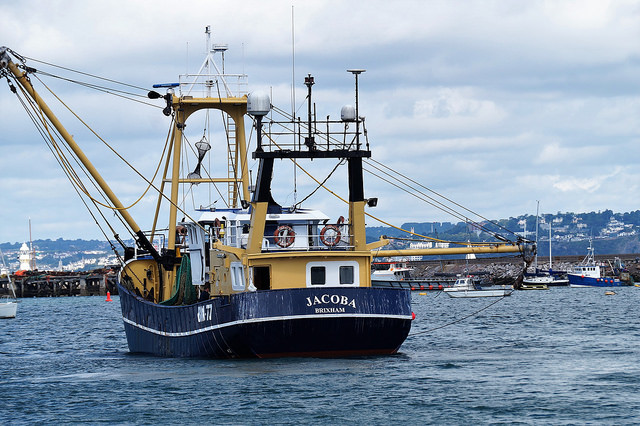boat: (442, 271, 514, 303)
fishing_boat: (1, 27, 415, 367)
